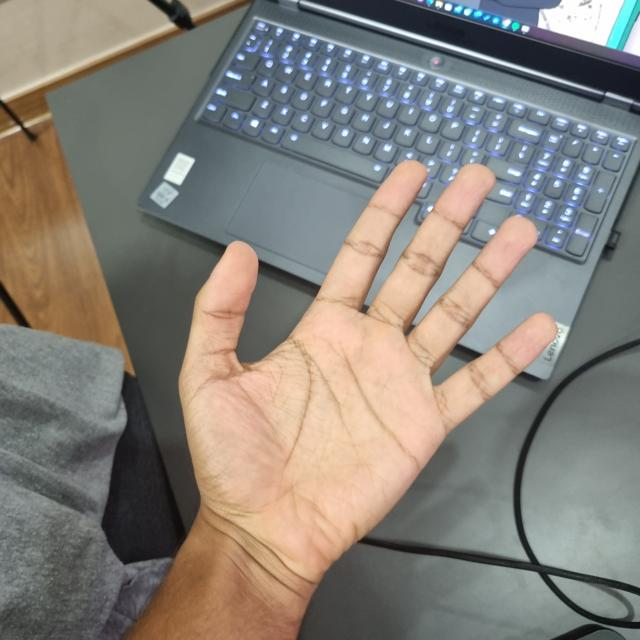Paper: (182, 163, 550, 570)
